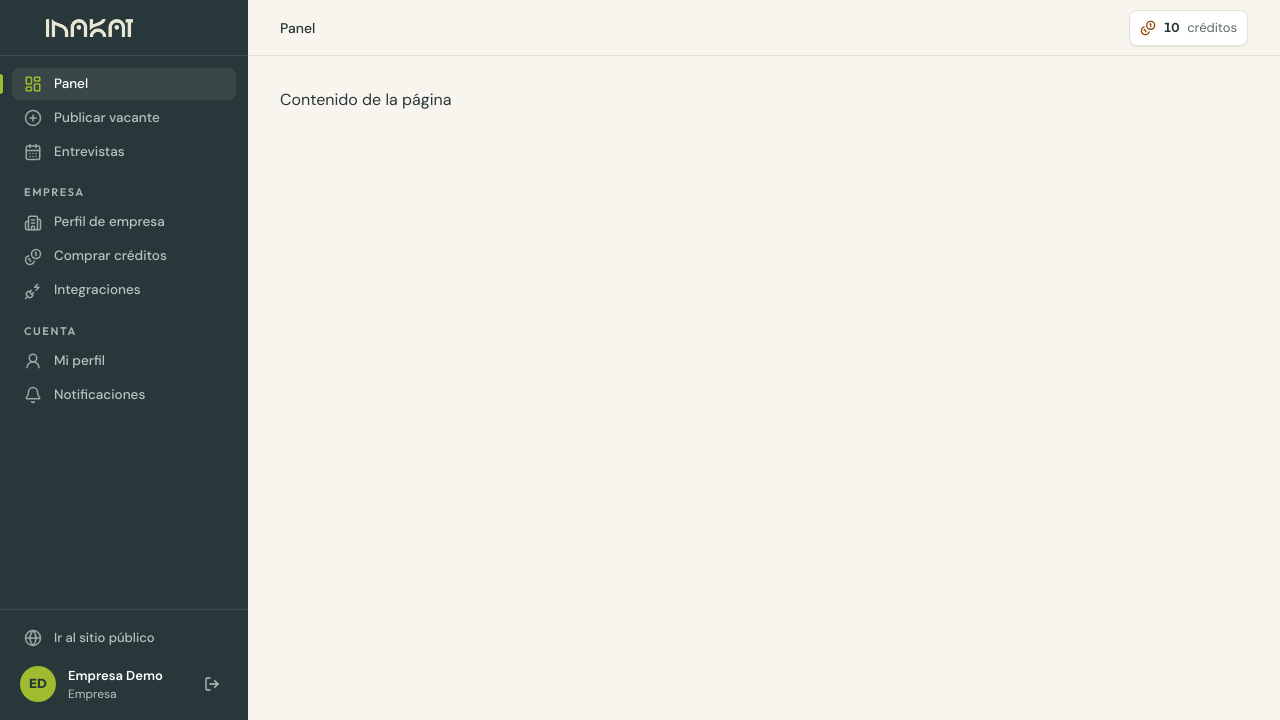
Test: UI-018: logout fallido no debe simular que la sesión se cerró › si el servidor responde !ok, no redirige y avisa del error
Click the button named "Cerrar sesión": (212, 684) [196, 668, 228, 700]
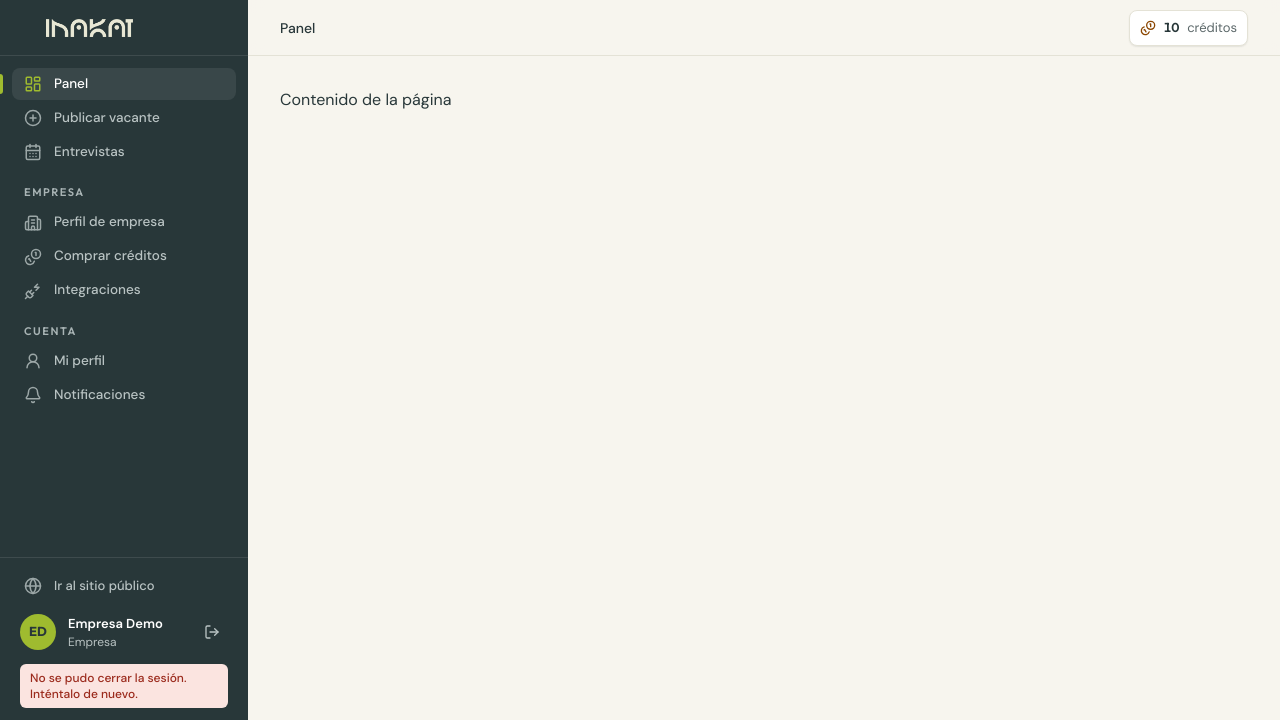
Now the message shows "No se pudo cerrar la sesión", box [30, 670, 186, 702]
